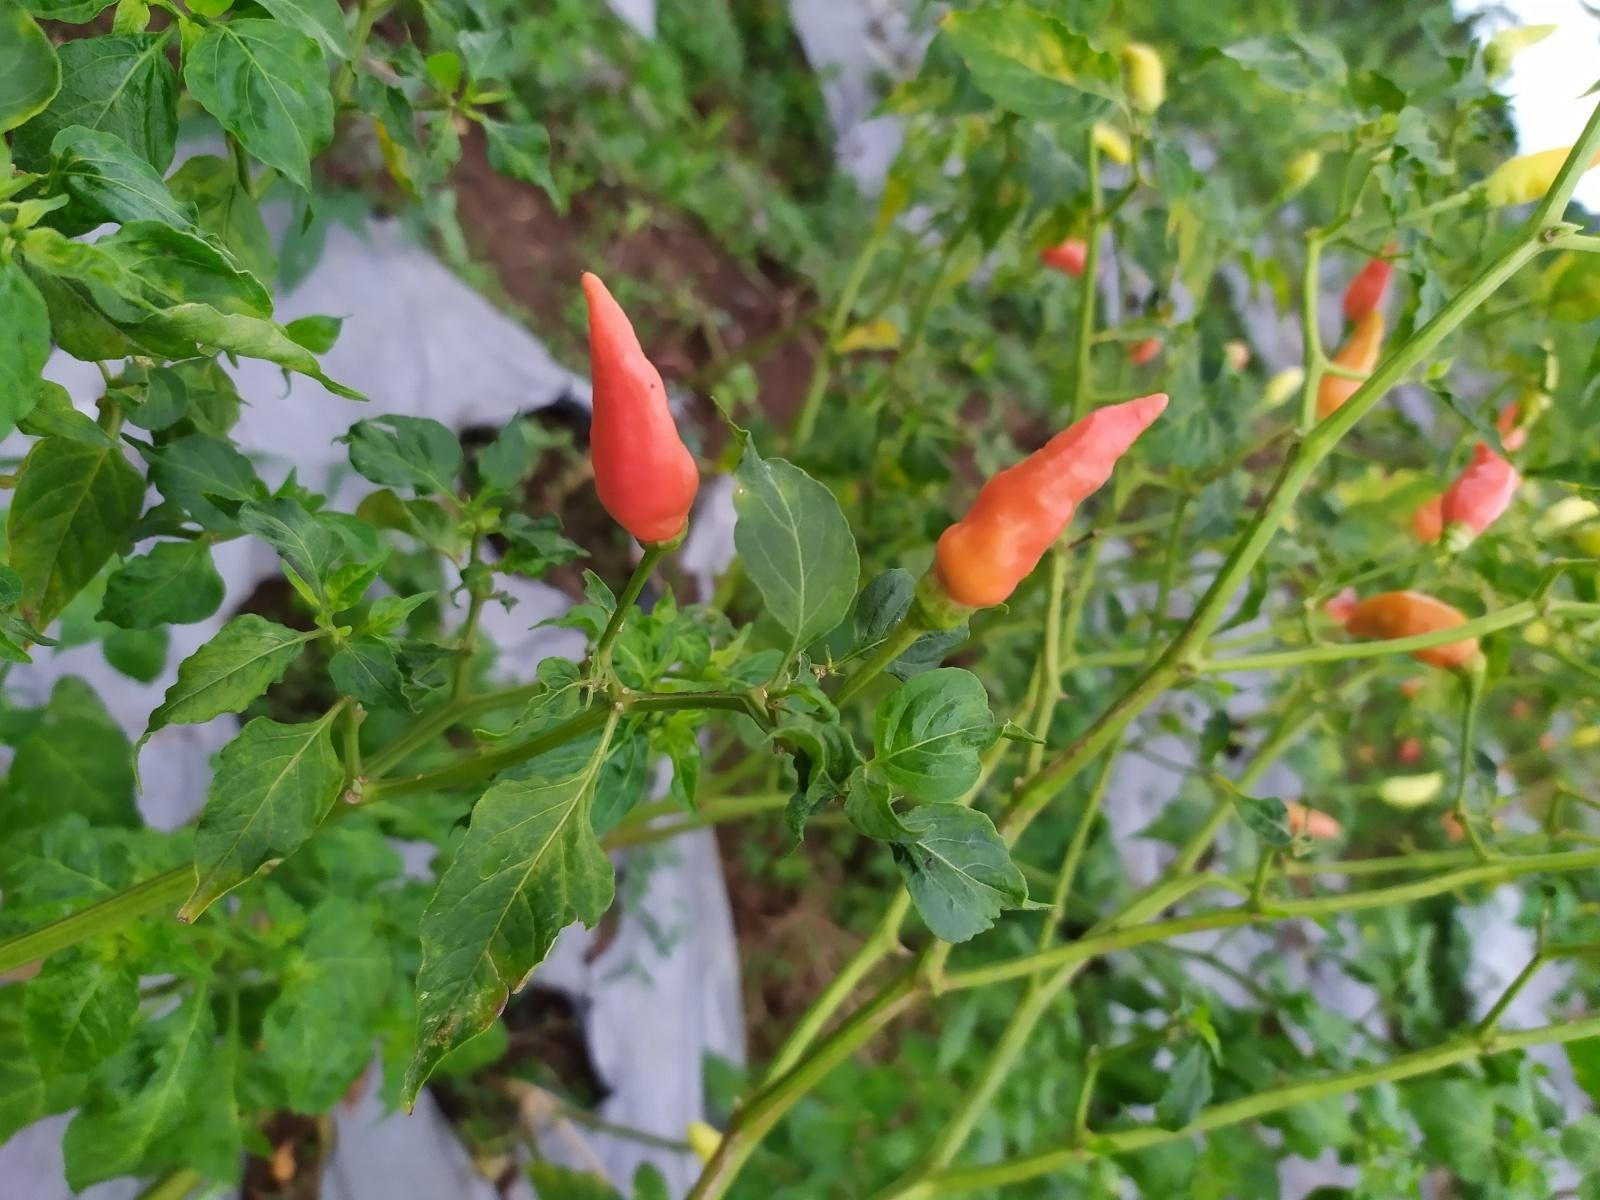cabai_normal: (925, 392, 1170, 616), (582, 272, 702, 546), (1441, 400, 1524, 528), (1347, 592, 1480, 671), (1318, 314, 1386, 426)
